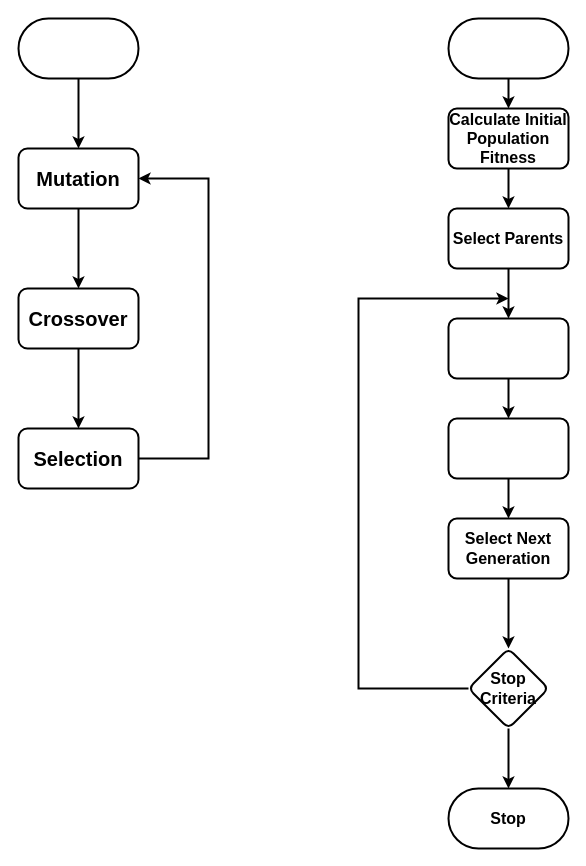
This 586x866 diagram has some shape labels left out. The centre of each missing label's shape, as x and y in pixels:
"Do Crossover" belongs at (x=508, y=348).
"Do Mutation" belongs at (x=508, y=448).
"Initialize" belongs at (x=78, y=48).
"Initialize & Validation" belongs at (x=508, y=48).
